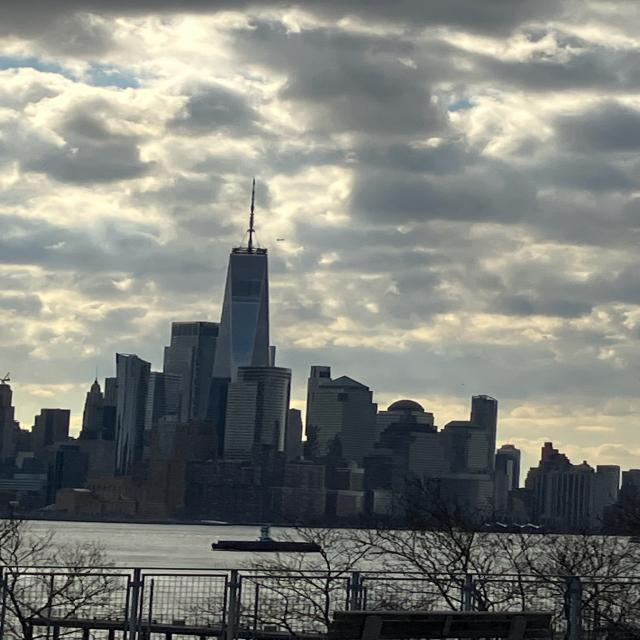WTC: (216, 182, 275, 373)
